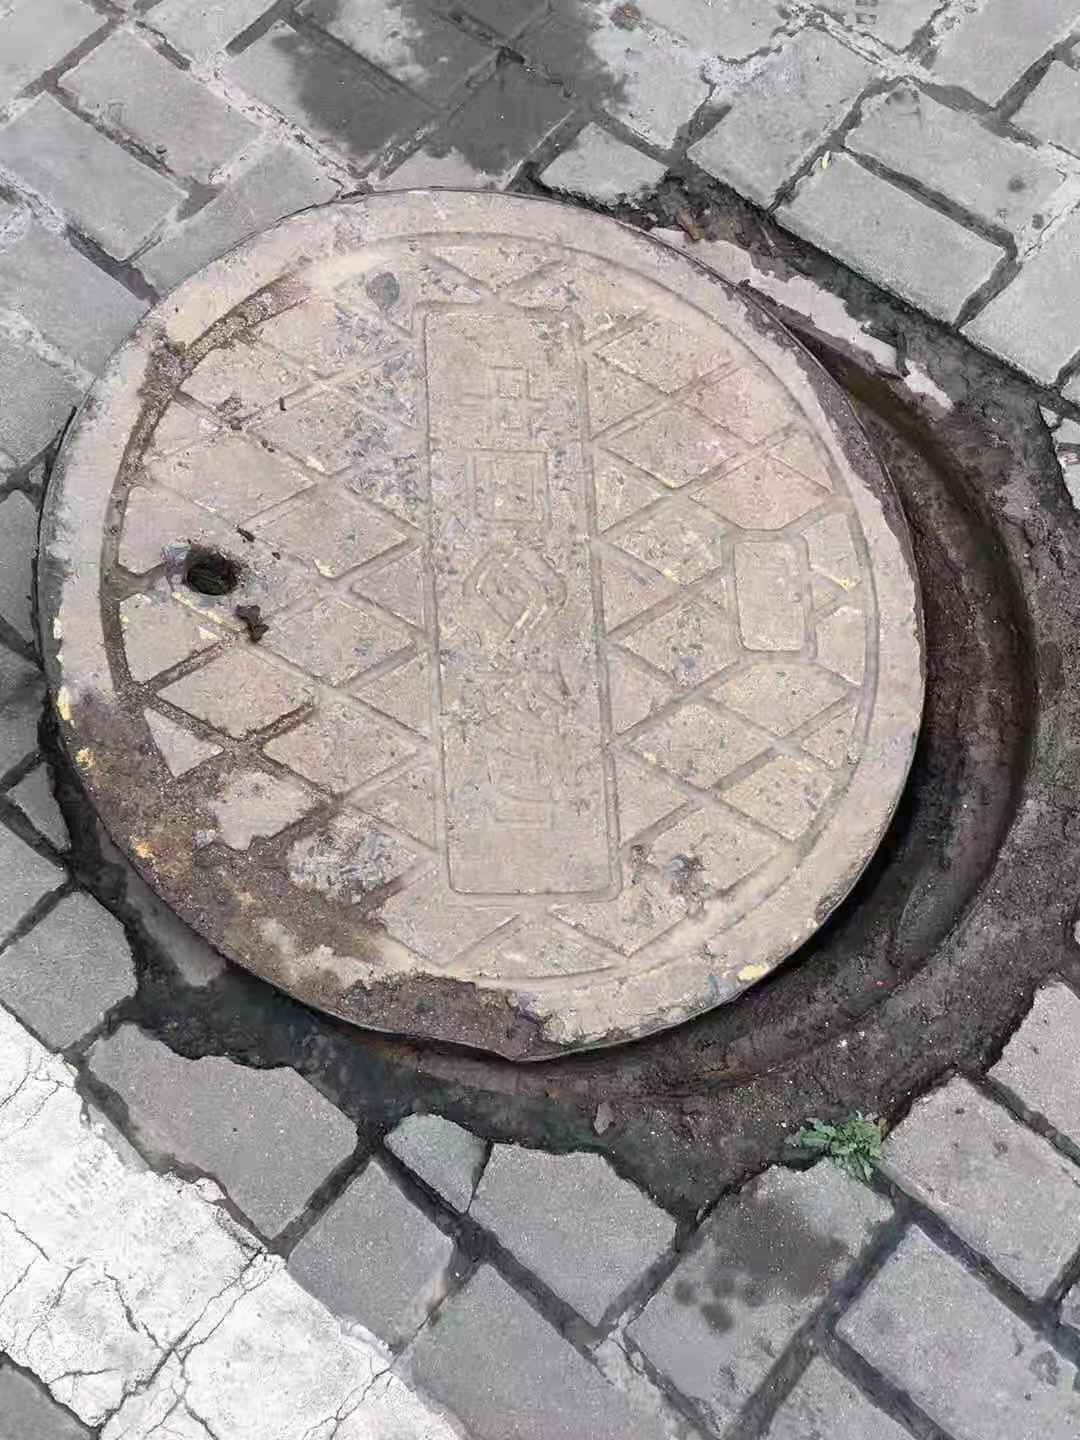uncovered: (41, 183, 1080, 1100)
